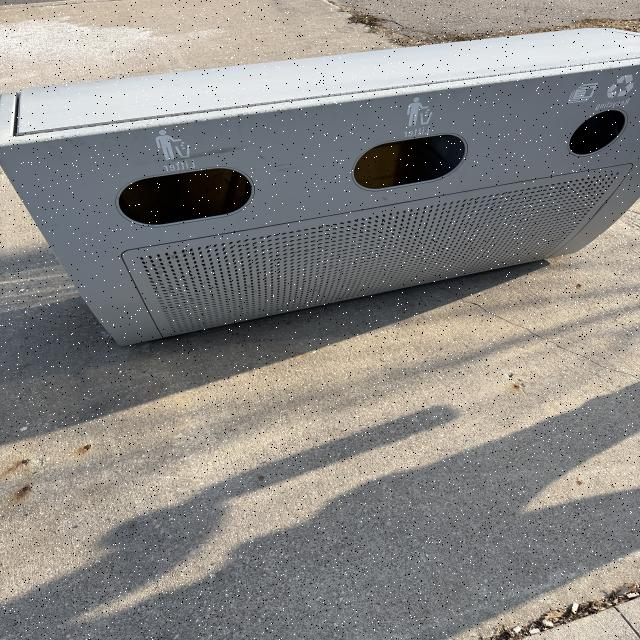Dustbin: (0, 24, 640, 348)
